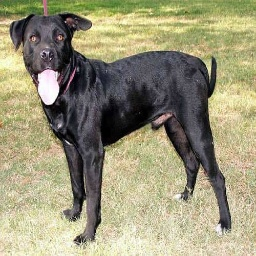dog: (6, 9, 235, 239)
